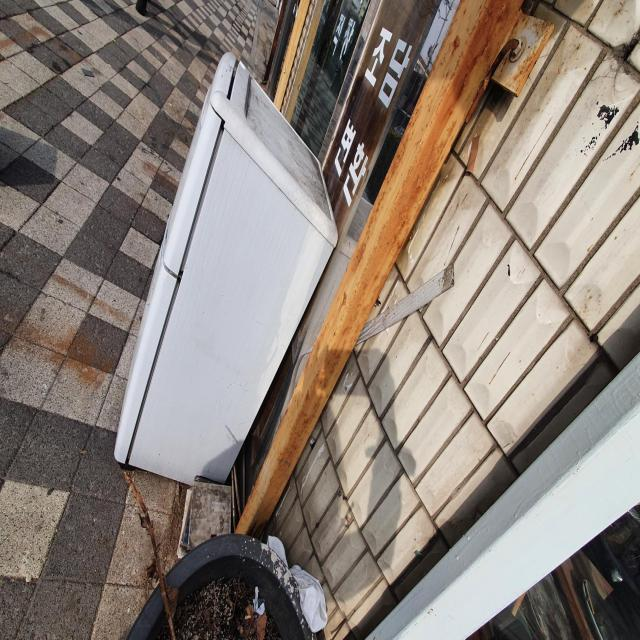refrigerator: (110, 50, 338, 493)
